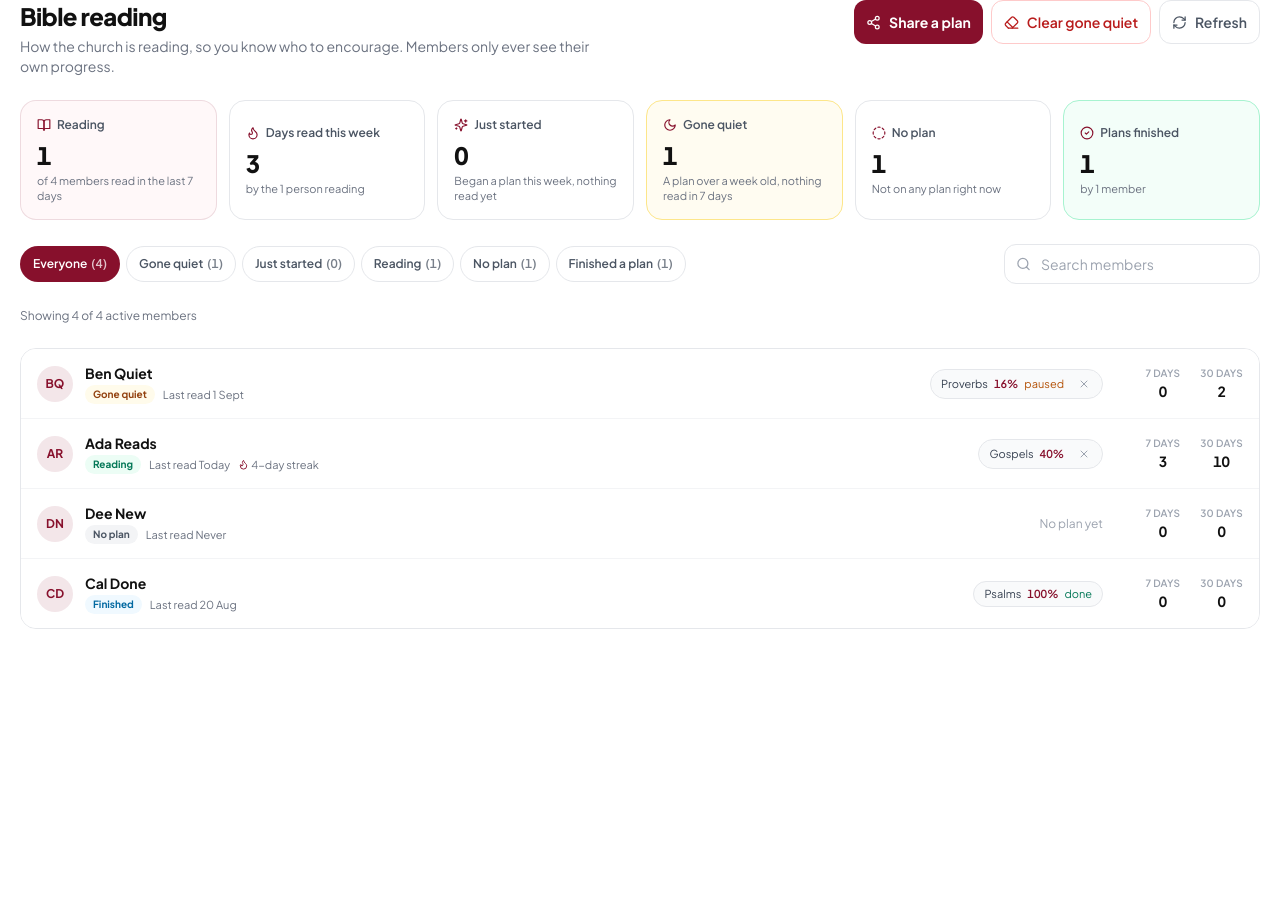
it: clearing gone quiet › asks first, then removes exactly the number of plans it showed
Click the button "Clear gone quiet" at (1071, 22), box [991, 0, 1151, 44]
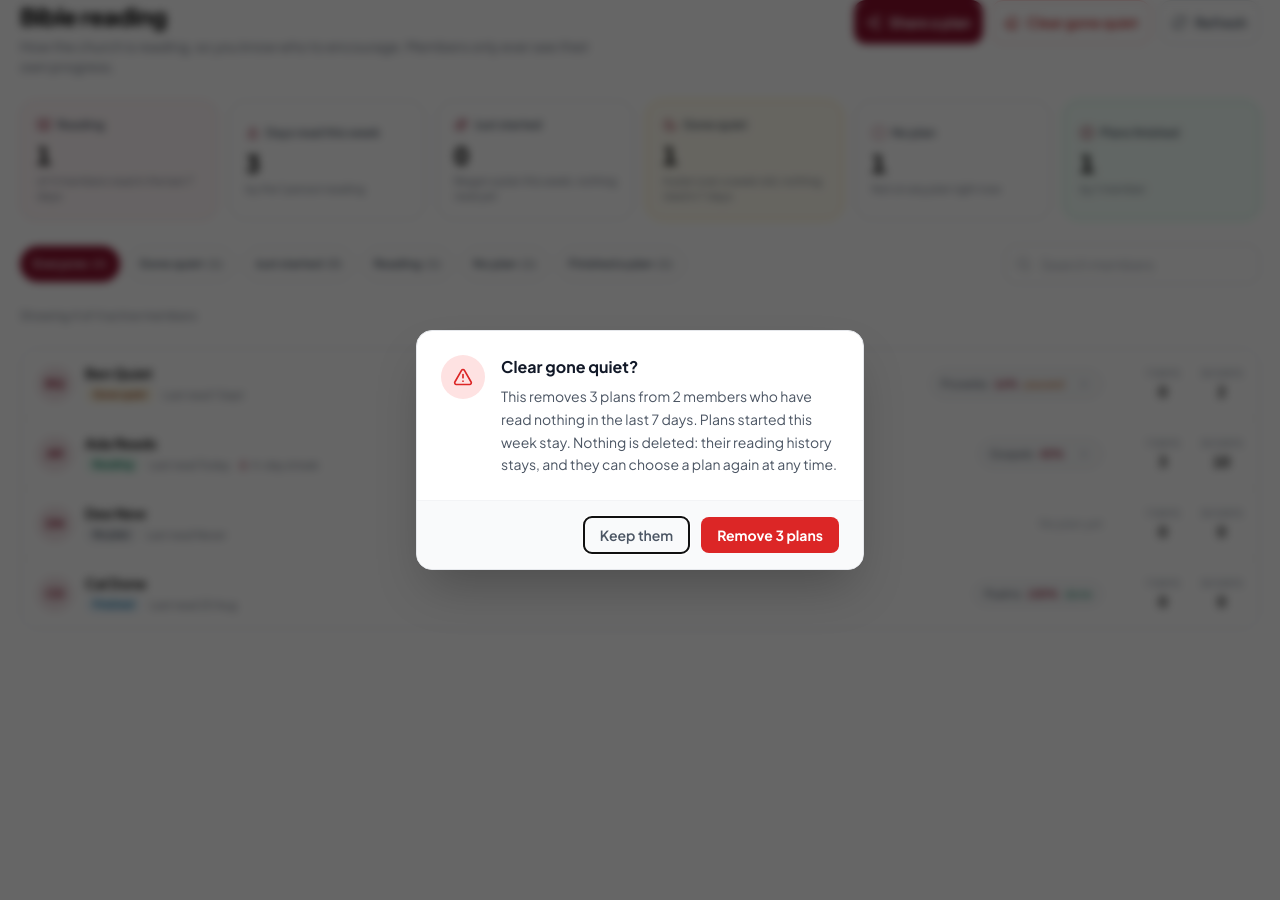
Check: the dialog "Clear gone quiet?" shows "This removes 3 plans from 2 members who have read nothing in the last 7 days.", box [501, 387, 837, 473]
Check: the dialog "Clear gone quiet?" shows "Plans started this week stay.", box [501, 387, 837, 473]
Click the button "Remove 3 plans" at (770, 535), box [701, 517, 839, 553]
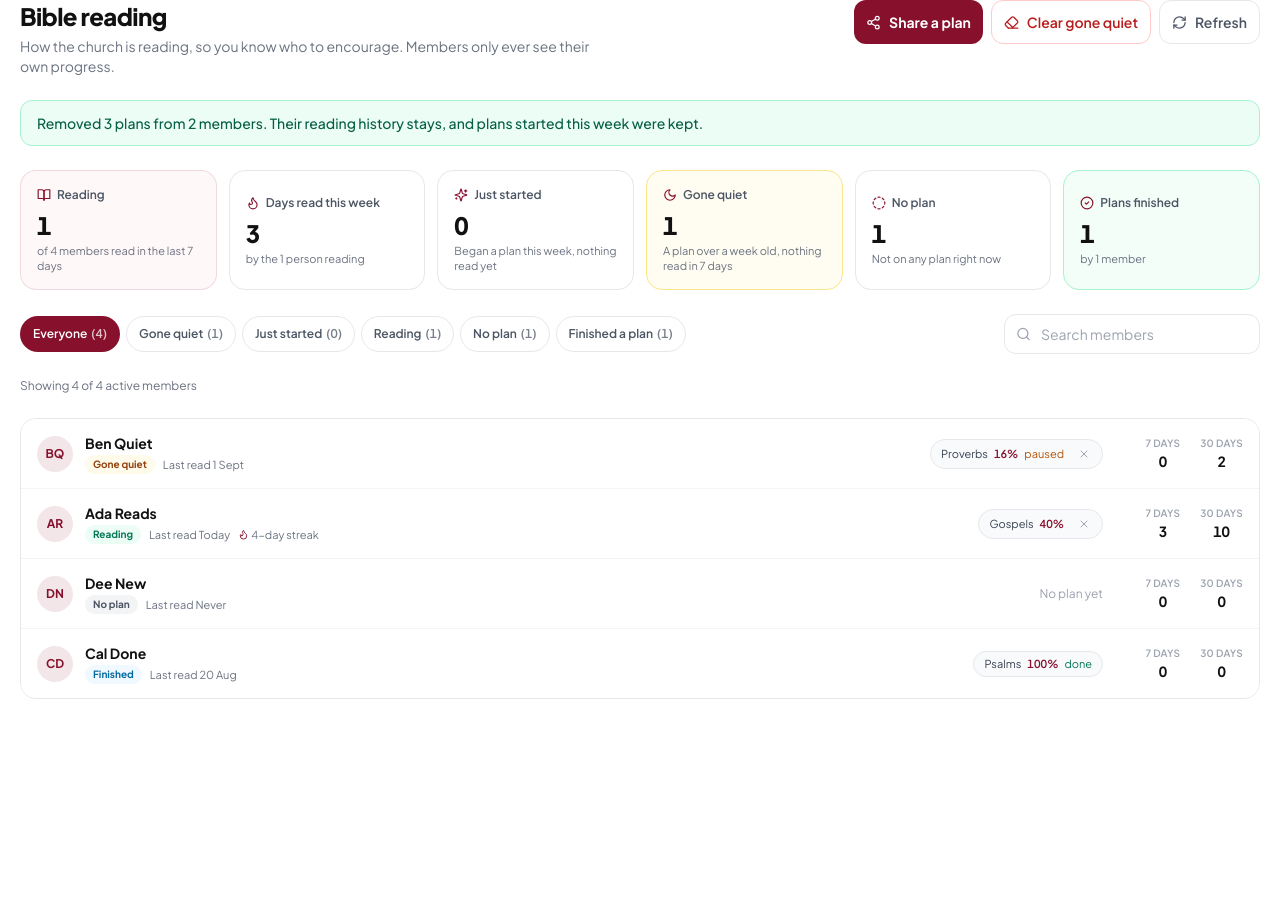
Check: the text "Removed 3 plans from 2 members." is shown, box [20, 100, 1260, 146]
